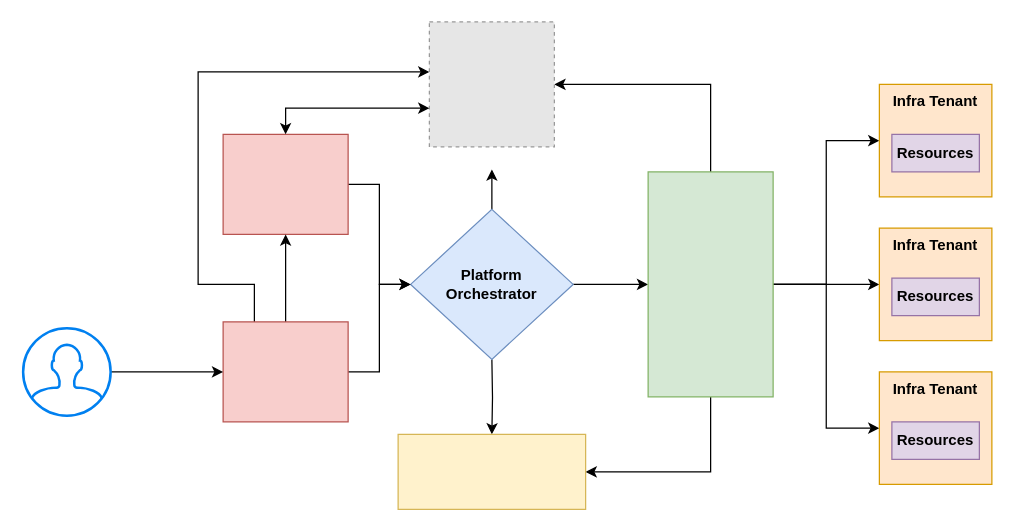
Some shapes in this 1014 by 531 pixel diagram are drawn without their labels. Grey dashed boxes stand in for pictures. The shapes that lost their labels are listed below. From the top down, each one's box as (x1, y1, x2, y2) in pixels, then its label:
(222, 133, 348, 234): CI Workflows
(647, 171, 773, 397): CD Workflows
(222, 321, 348, 422): Frontend IDE / DP / CLI
(397, 433, 586, 509): Secret Manager
